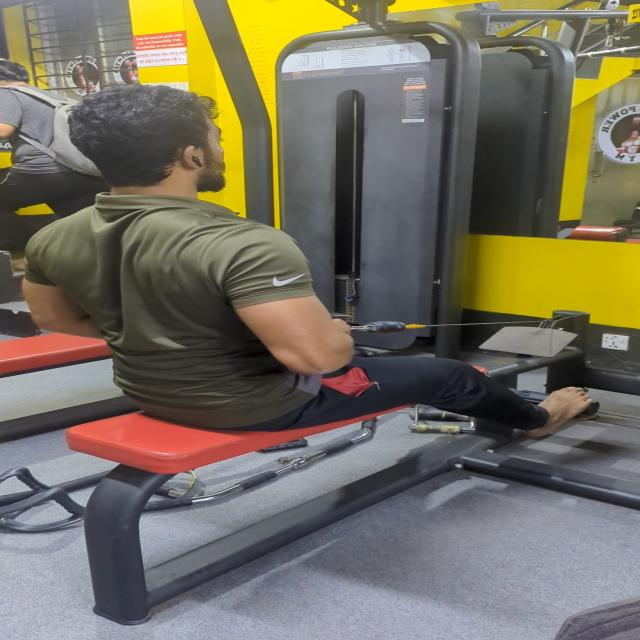Normal_RowingMachineExercise: (18, 84, 640, 474)
